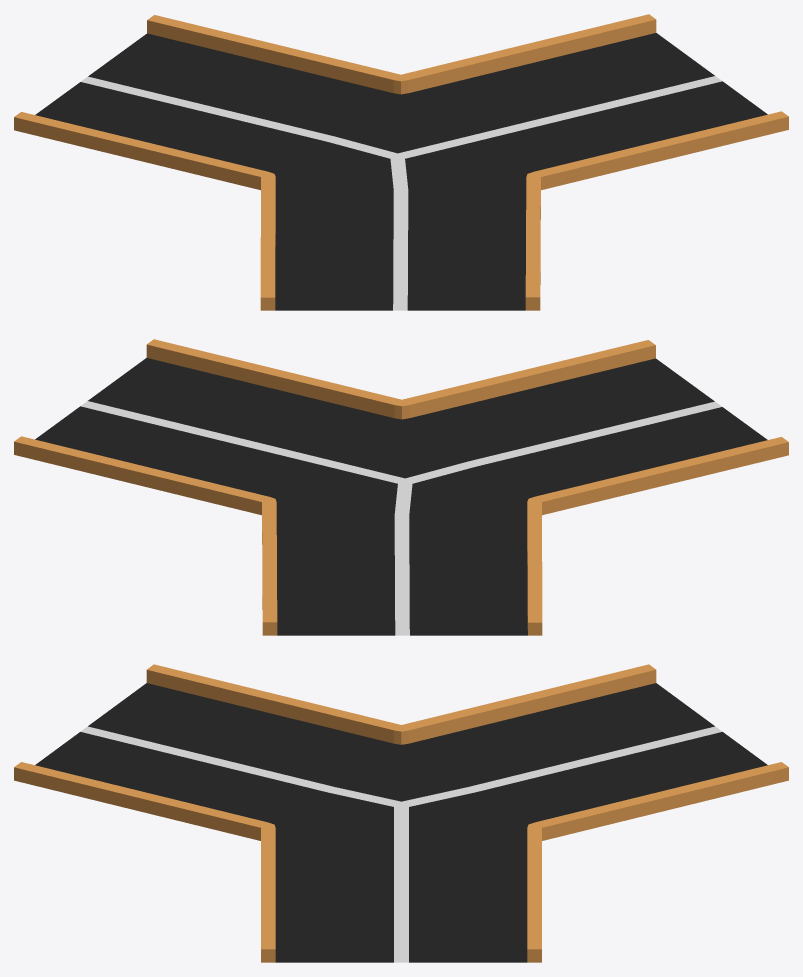
The model's file is Road__Y_cross_fixed_Solo.fbx.
3 views of the same model, one above another, from view 1: azimuth 30°, elevation 25°; view 2: azimuth 150°, elevation 25°; view 3: azimuth 270°, elevation 25° (orthographic).
Visible parts, largest first — view 1: Hex1.002; view 2: Hex1.002; view 3: Hex1.002.
Part boxes in pixels (x1,y1,x2,y2): Hex1.002: [14, 14, 788, 310]; Hex1.002: [14, 339, 788, 635]; Hex1.002: [14, 664, 788, 962].
Size of the model in its own units: 91.94 by 2 by 106.
